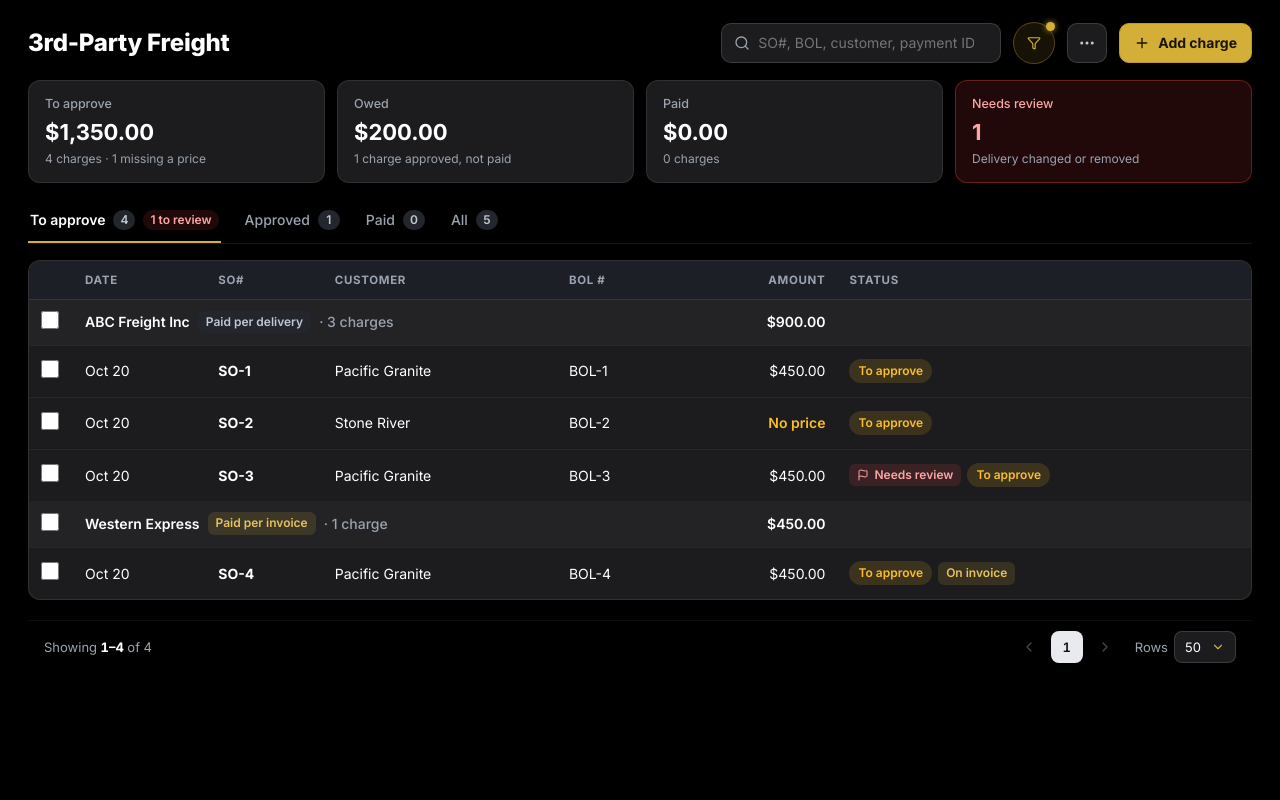
it: 3rd-Party Freight list › a selection offers Approve and Approve & pay, or says why paying is blocked
The width and height of the screenshot is (1280, 800).
Click the 2nd checkbox with class "fr-chk".
click(50, 369)  # box [41,360,59,378]
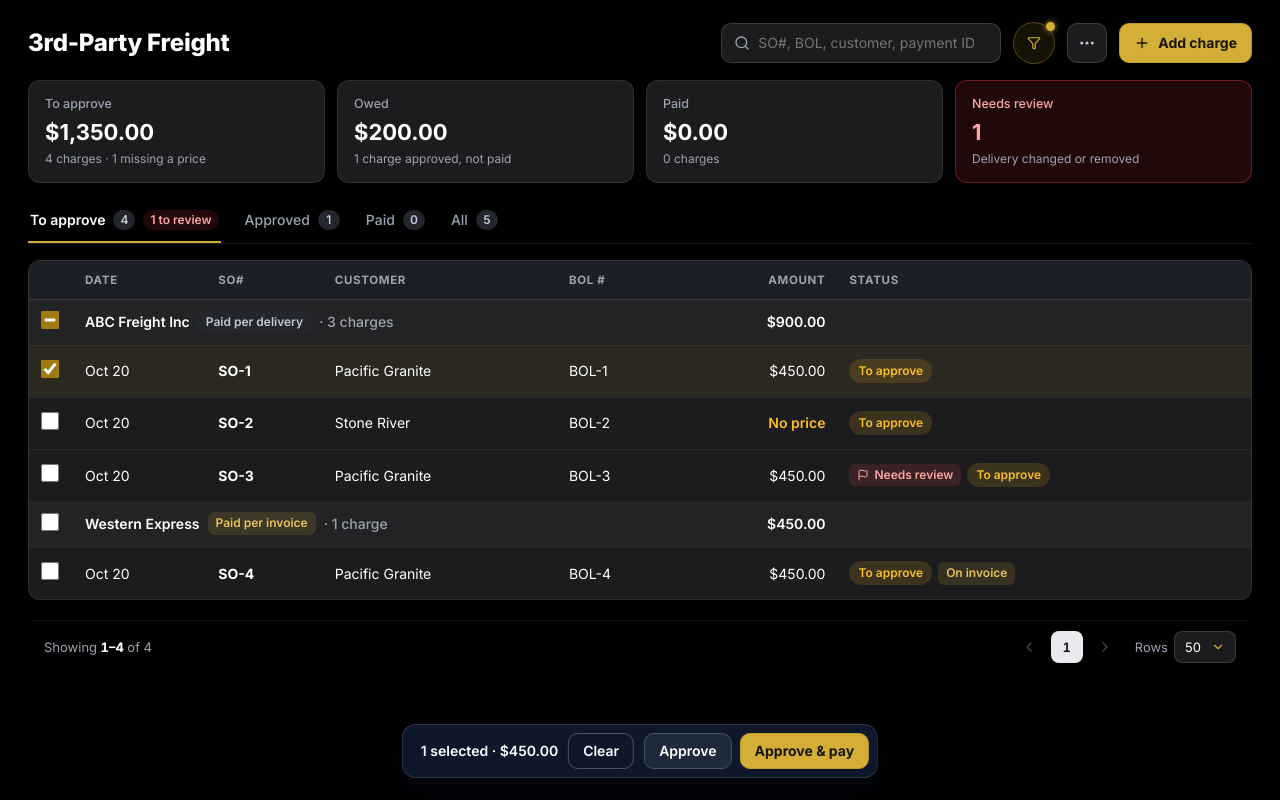
Now the element with class "fr-bar" shows "1 selected · $450.00", box [402,724,878,778]
Now the button "Approve" is shown, box [644,733,732,769]
Now the button "Approve & pay" is shown, box [740,733,869,769]
Click the 3rd checkbox with class "fr-chk".
click(50, 421)  # box [41,412,59,430]
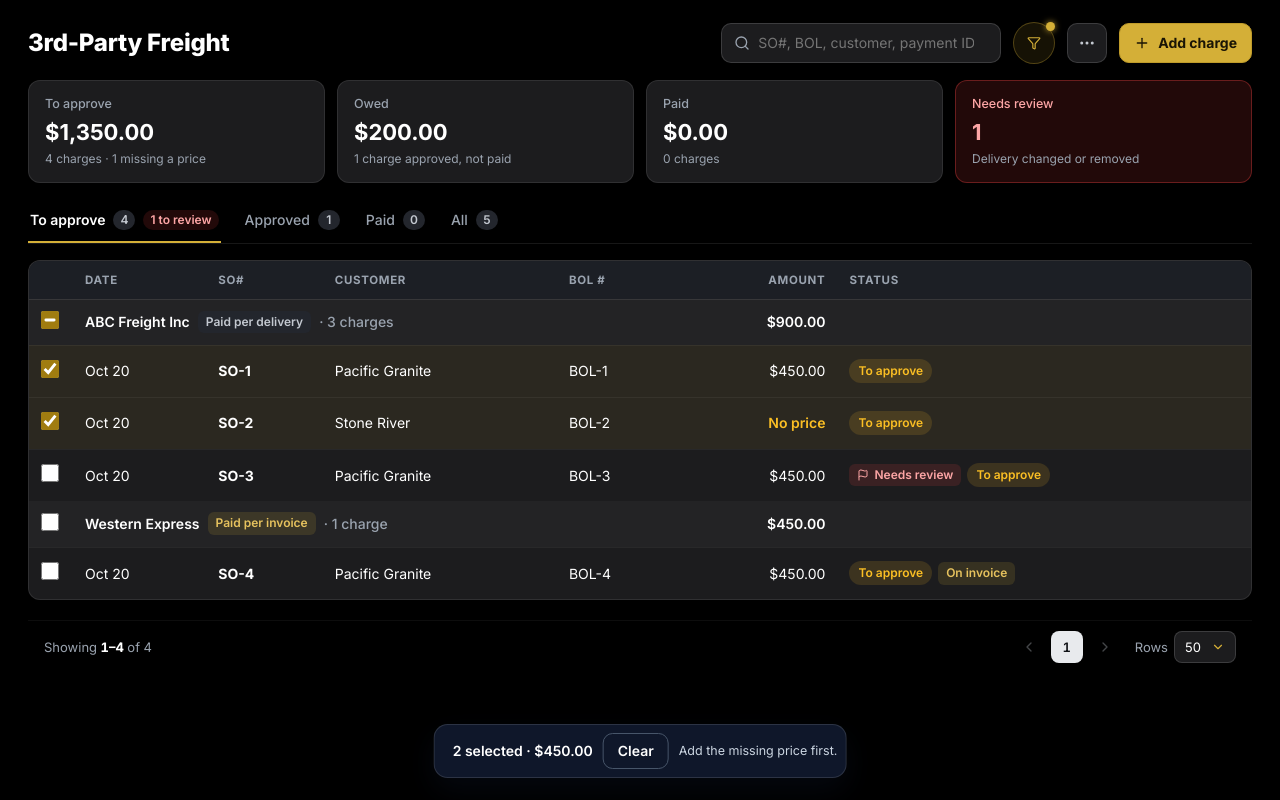
Now the text with class "fr-bar-note" reads "Add the missing price first.", box [679,743,837,758]
Click the button "Clear".
click(636, 751)  # box [603,733,669,769]
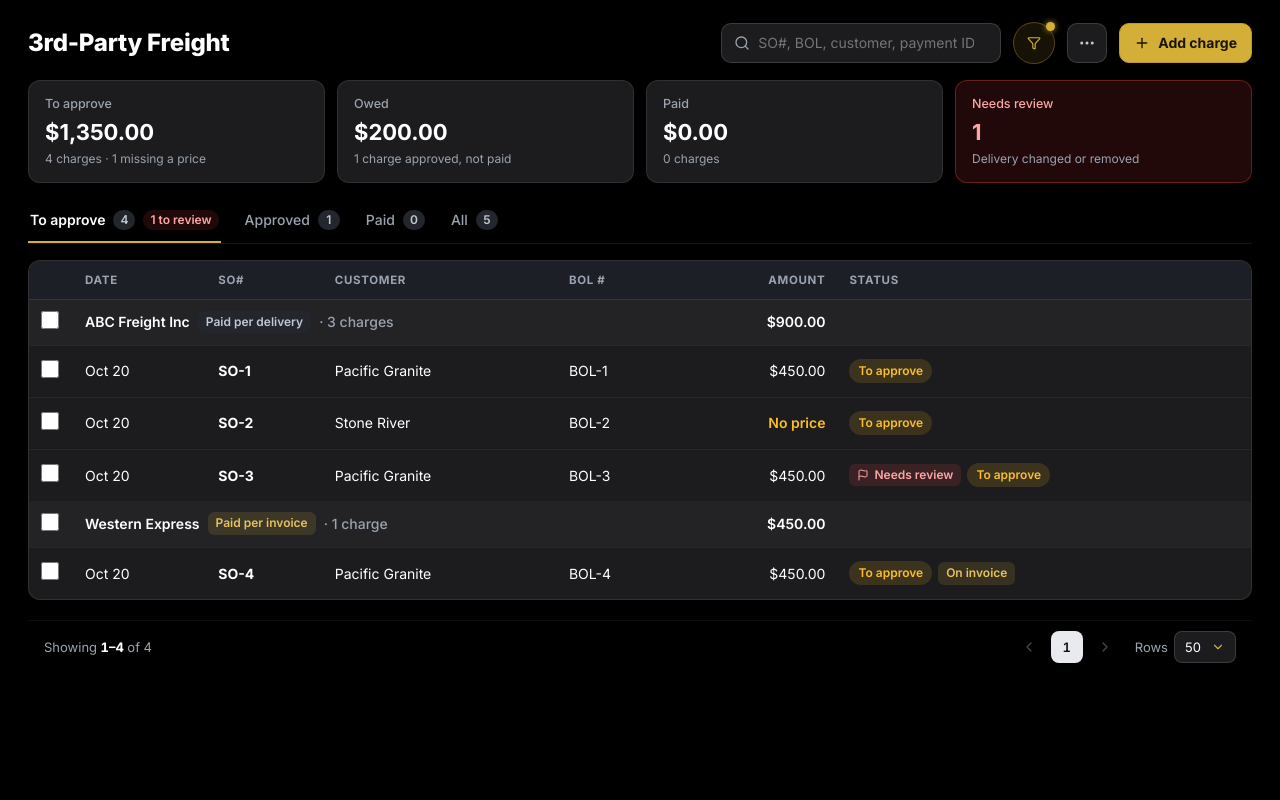
Click the 4th checkbox with class "fr-chk".
click(50, 473)  # box [41,464,59,482]
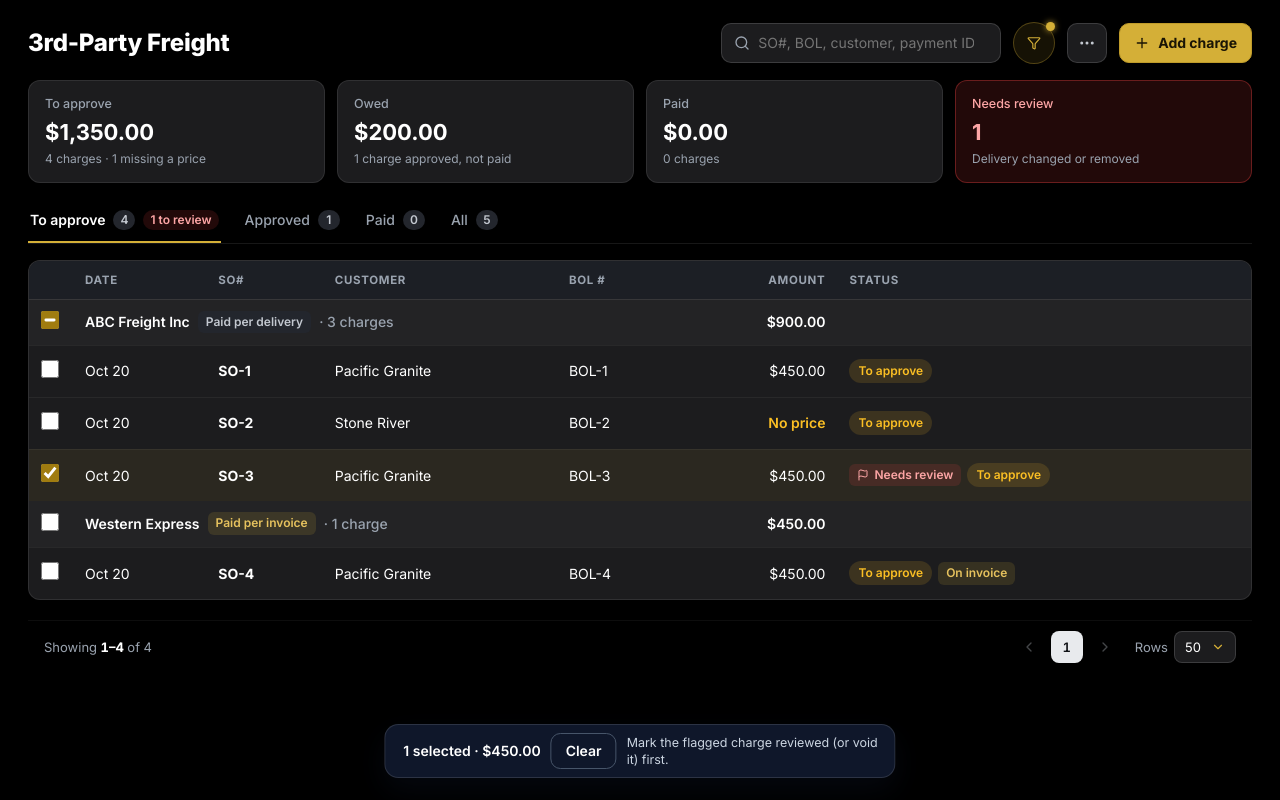
Now the text with class "fr-bar-note" shows "Mark the flagged charge reviewed", box [627,734,878,767]
